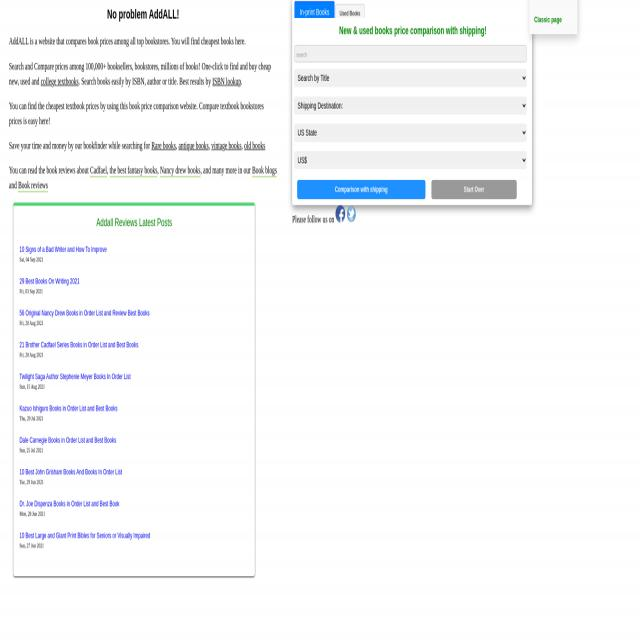button: (297, 180, 425, 200), (431, 180, 517, 200), (529, 0, 577, 35), (294, 2, 335, 18), (335, 4, 364, 22), (346, 205, 356, 222), (336, 205, 345, 222)
field: (295, 150, 527, 169), (295, 44, 527, 62), (294, 69, 526, 87), (295, 97, 527, 114), (295, 124, 527, 141)
